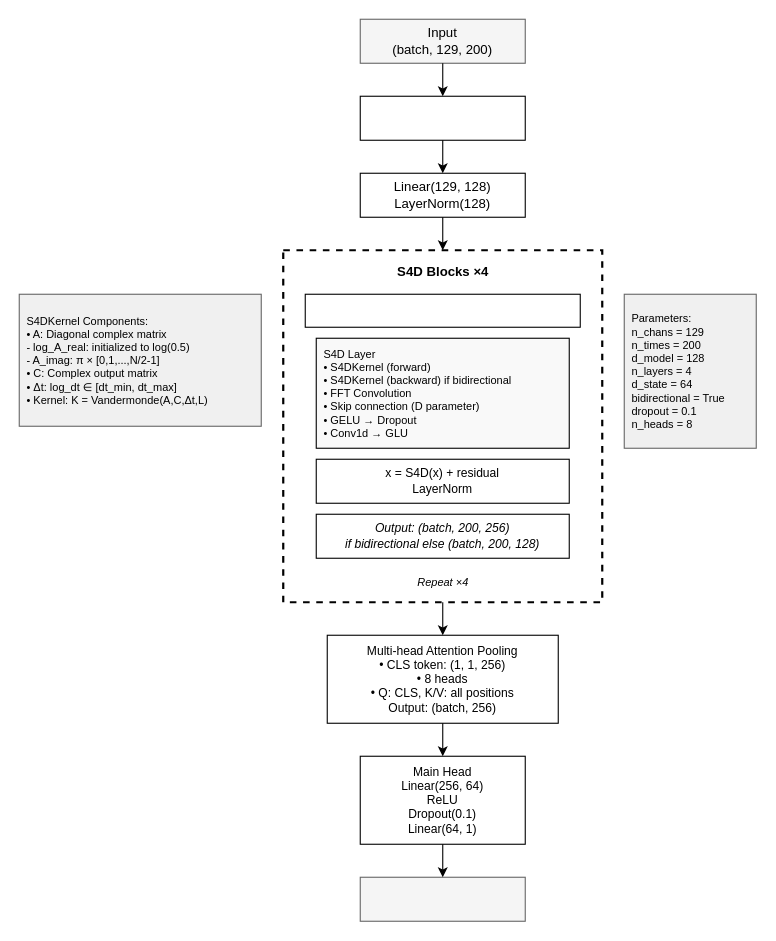
This 776x941 diagram has some shape labels left out. Here are the shapes that lost their labels. From the top down, the box of each, then its label:
(359, 95, 525, 140): Transpose (batch, 200, 129)
(304, 293, 580, 327): S4DBlock
(359, 876, 525, 921): Output (batch,)
